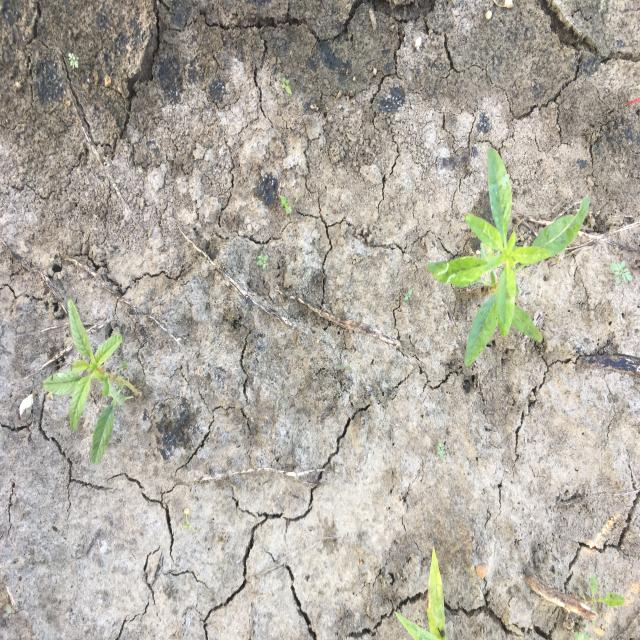Waterhemp: (425, 146, 592, 369), (43, 298, 140, 466)
